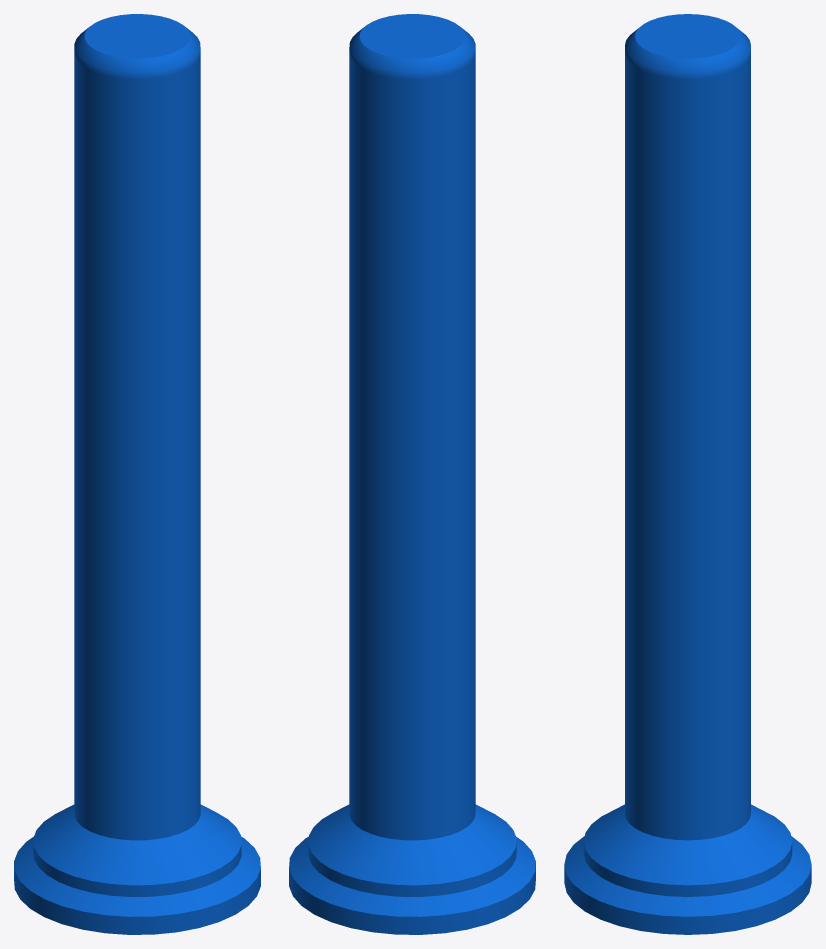
File: sütun engel.fbx
The picture shows the model from 3 angles, left to right: view 1: azimuth 30°, elevation 25°; view 2: azimuth 150°, elevation 25°; view 3: azimuth 270°, elevation 25°; orthographic projection.
Visible parts, largest first — view 1: Cylinder.006; view 2: Cylinder.006; view 3: Cylinder.006.
Part boxes in pixels (box(x1,y1,x2,y2)): Cylinder.006: box(14, 14, 260, 934); Cylinder.006: box(289, 14, 535, 934); Cylinder.006: box(564, 14, 811, 934).
Bounding box in the file's own units: 392 × 1479 × 392.
